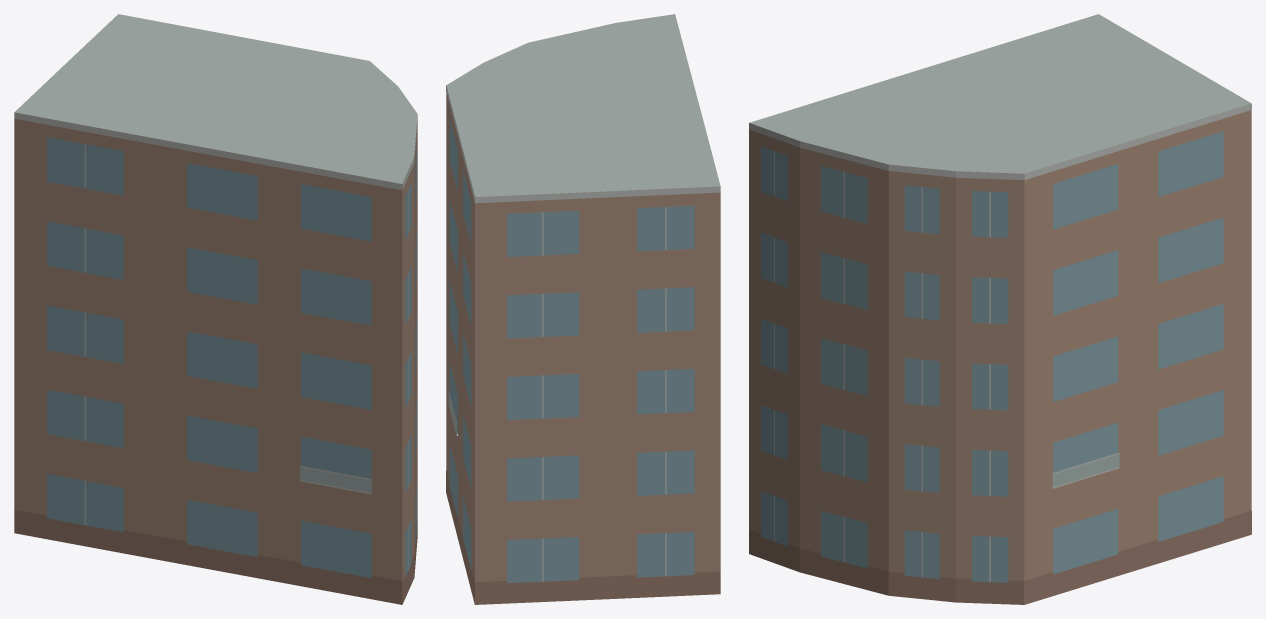
Rendered from survey-upis-33045252.glb.
3 renders of one model, left to right at view 1: azimuth 30°, elevation 25°; view 2: azimuth 150°, elevation 25°; view 3: azimuth 270°, elevation 25°, orthographic. The views are drawn at different scales.
Visible parts, largest first — view 1: survey-upis-33045252.tmp; view 2: survey-upis-33045252.tmp; view 3: survey-upis-33045252.tmp.
Part boxes in pixels (bbox=[...]): survey-upis-33045252.tmp: bbox=[14, 14, 417, 604]; survey-upis-33045252.tmp: bbox=[446, 14, 720, 604]; survey-upis-33045252.tmp: bbox=[749, 14, 1251, 604].
Bounding box in the file's own units: 12.92 × 16.25 × 17.18.
